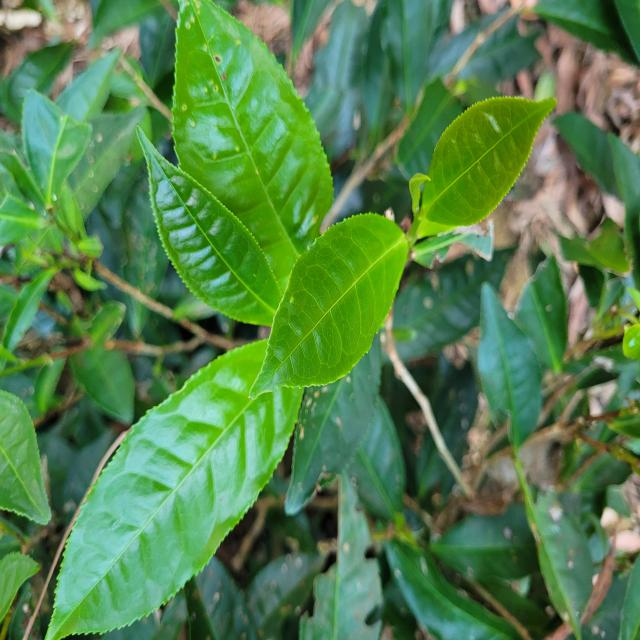Catagory A(1-2 days): (408, 68, 557, 252)
